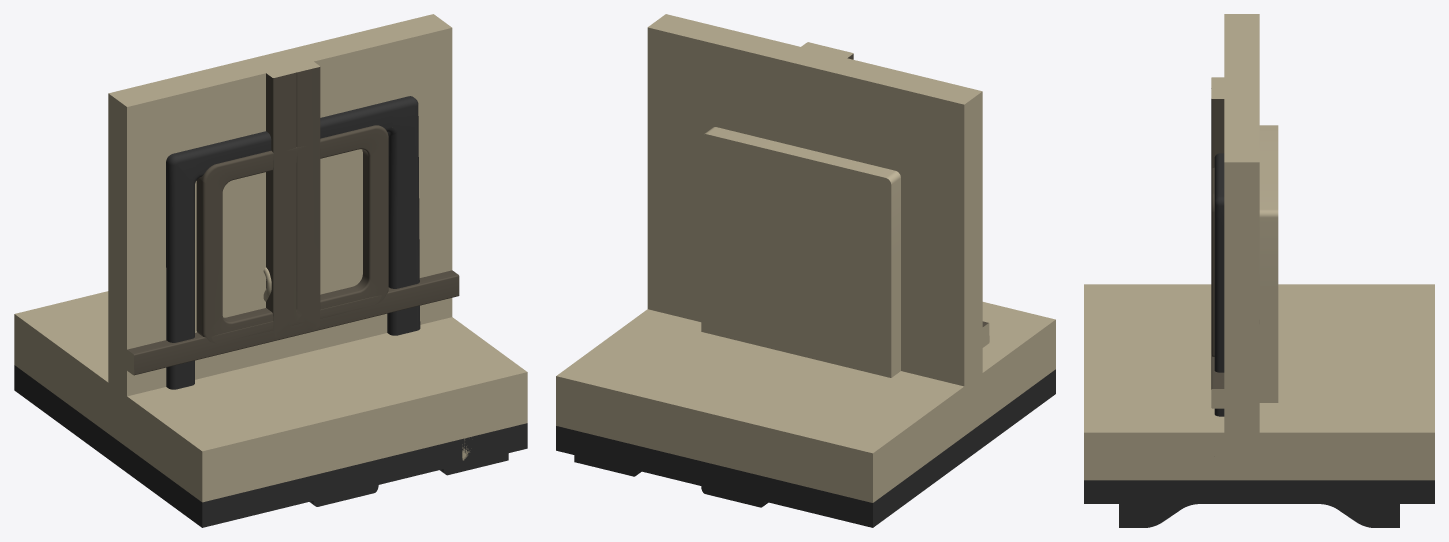
File: EnvironmentMeshes.fbx
3 views of the same model, side by side, from view 1: azimuth 30°, elevation 25°; view 2: azimuth 150°, elevation 25°; view 3: azimuth 270°, elevation 25° (orthographic). The views are drawn at different scales.
Parts seen in each view (by area): view 1: Wall_Blank, CielingTile_V1, CielingTile_V2_RightFarEdge, WallFrame_Door, LargeWindow_BotLeft, WindowWallSmallFrame, LargeWindow_BotRight, FloorTile, LargeWindow_TopMiddle, CielingTile_V2_RightMidEdge, CielingTile_V2_LeftFarEdge, CielingTile_V2_Middle (+1 smaller); view 2: WindowWallSmallFrame, WallFrame_Door, CielingTile_V1, CielingTile_V2_LeftFarEdge, FloorTile, CielingTile_V2_LeftMidEdge, CielingTile_V2_MiddleFarEdge, Wall_Blank, CielingTile_V2_RightFarEdge, LargeWindow_TopMiddle, CielingTile_V2_RightMidEdge, LargeWindow_BotRight (+2 smaller); view 3: CielingTile_V1, LargeWindow_TopMiddle, CielingTile_V2_RightFarEdge, CielingTile_V2_LeftFarEdge, WallFrame_Door, CielingTile_V2_MiddleFarEdge, LargeWindow_BotLeft, CielingTile_V2_LeftMidEdge, LargeWindow_BotRight, FloorTile, CielingTile_V2_Middle, WindowWallSmallFrame (+2 smaller).
Part boxes in pixels (x1=…): Wall_Blank: x1=108, y1=28, x2=452, y2=417; CielingTile_V1: x1=14, y1=291, x2=526, y2=498; CielingTile_V2_RightFarEdge: x1=109, y1=372, x2=527, y2=501; WallFrame_Door: x1=108, y1=96, x2=420, y2=438; LargeWindow_BotLeft: x1=108, y1=56, x2=459, y2=430; WindowWallSmallFrame: x1=196, y1=125, x2=388, y2=343; LargeWindow_BotRight: x1=110, y1=32, x2=452, y2=453; FloorTile: x1=14, y1=365, x2=523, y2=527; LargeWindow_TopMiddle: x1=109, y1=14, x2=452, y2=414; CielingTile_V2_RightMidEdge: x1=24, y1=337, x2=378, y2=506; CielingTile_V2_LeftFarEdge: x1=14, y1=314, x2=527, y2=461; CielingTile_V2_Middle: x1=16, y1=322, x2=397, y2=495; WindowWallSmallFrame: x1=647, y1=27, x2=991, y2=410; WallFrame_Door: x1=701, y1=127, x2=971, y2=383; CielingTile_V1: x1=556, y1=302, x2=1055, y2=502; CielingTile_V2_LeftFarEdge: x1=556, y1=376, x2=972, y2=502; FloorTile: x1=556, y1=369, x2=1055, y2=527; CielingTile_V2_LeftMidEdge: x1=572, y1=380, x2=951, y2=507; CielingTile_V2_MiddleFarEdge: x1=556, y1=344, x2=1022, y2=500; Wall_Blank: x1=964, y1=91, x2=982, y2=355; CielingTile_V2_RightFarEdge: x1=957, y1=319, x2=1055, y2=433; LargeWindow_TopMiddle: x1=648, y1=14, x2=989, y2=380; CielingTile_V2_RightMidEdge: x1=873, y1=370, x2=987, y2=502; LargeWindow_BotRight: x1=686, y1=19, x2=990, y2=428; CielingTile_V1: x1=1084, y1=284, x2=1434, y2=503; LargeWindow_TopMiddle: x1=1211, y1=14, x2=1259, y2=456; CielingTile_V2_RightFarEdge: x1=1119, y1=432, x2=1434, y2=527; CielingTile_V2_LeftFarEdge: x1=1084, y1=432, x2=1417, y2=527; WallFrame_Door: x1=1214, y1=125, x2=1278, y2=476; CielingTile_V2_MiddleFarEdge: x1=1084, y1=432, x2=1355, y2=503; LargeWindow_BotLeft: x1=1207, y1=22, x2=1259, y2=480; CielingTile_V2_LeftMidEdge: x1=1084, y1=432, x2=1328, y2=480; LargeWindow_BotRight: x1=1208, y1=88, x2=1259, y2=480; FloorTile: x1=1084, y1=480, x2=1272, y2=503; CielingTile_V2_Middle: x1=1084, y1=432, x2=1320, y2=480; WindowWallSmallFrame: x1=1207, y1=167, x2=1259, y2=479.
Bounding box in the file's own units: 400 × 460 × 400.
